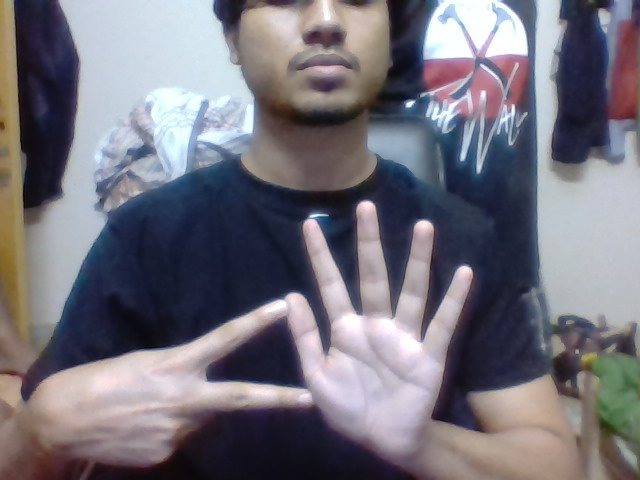N: (196, 296, 287, 416)
